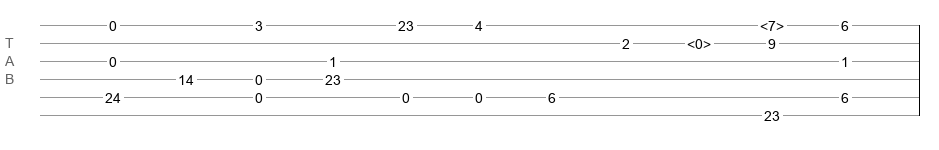0: (109, 18, 117, 28), (109, 54, 117, 64), (255, 90, 263, 100), (255, 72, 263, 82), (402, 90, 410, 100), (475, 90, 483, 100)
1: (329, 54, 337, 64), (841, 54, 849, 64)
14: (178, 72, 194, 82)
2: (622, 36, 630, 46)
23: (325, 72, 341, 82), (398, 18, 414, 28), (764, 108, 780, 118)
24: (105, 90, 121, 100)
3: (255, 18, 263, 28)
4: (475, 18, 483, 28)
6: (548, 90, 556, 100), (841, 90, 849, 100), (841, 18, 849, 28)
9: (768, 36, 776, 46)
harmonic: (687, 36, 711, 46), (760, 18, 784, 28)
